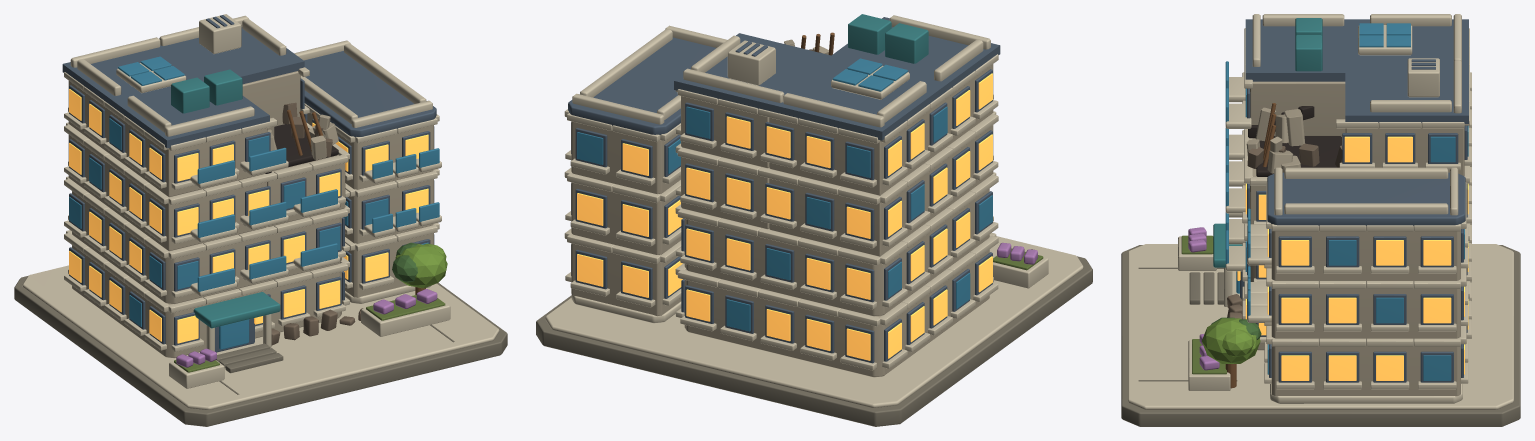
File: civilian-apartments-damaged.glb
3 views of the same model, side by side, from view 1: azimuth 30°, elevation 25°; view 2: azimuth 150°, elevation 25°; view 3: azimuth 270°, elevation 25° (orthographic). The views are drawn at different scales.
Visible parts, largest first — view 1: CivilianShell; view 2: CivilianShell; view 3: CivilianShell.
Part boxes in pixels (bbox=[...]): CivilianShell: bbox=[14, 14, 507, 426]; CivilianShell: bbox=[536, 14, 1092, 426]; CivilianShell: bbox=[1121, 14, 1520, 426].
Bounding box in the file's own units: 2.97 × 2.33 × 2.97.
